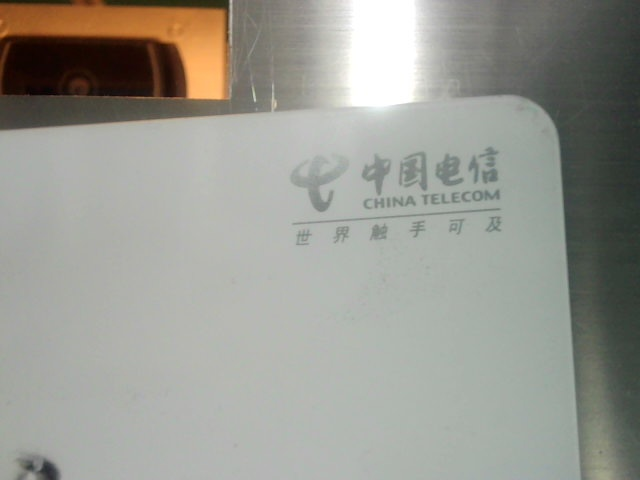AB_ChinaTelecom: (278, 146, 513, 250)
